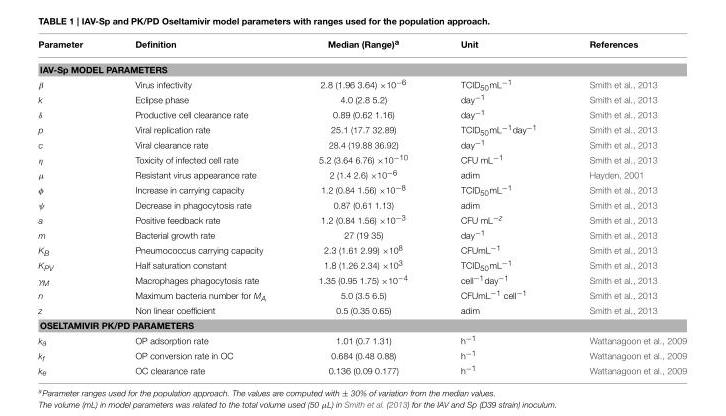table: (37, 37, 686, 376)
table column: (108, 37, 291, 376), (291, 37, 433, 376), (433, 37, 562, 376), (562, 37, 686, 376), (37, 37, 108, 376)
table column header: (37, 37, 686, 56)
table projected row header: (37, 56, 686, 76), (37, 317, 686, 331)
table row: (37, 56, 686, 76), (37, 37, 686, 56), (37, 181, 686, 198), (37, 76, 686, 92), (37, 121, 686, 137), (37, 241, 686, 257), (37, 287, 686, 303), (37, 331, 686, 347), (37, 347, 686, 363), (37, 106, 686, 121), (37, 151, 686, 166), (37, 166, 686, 181), (37, 211, 686, 226), (37, 226, 686, 241), (37, 257, 686, 272), (37, 272, 686, 287), (37, 92, 686, 106), (37, 137, 686, 151), (37, 303, 686, 317), (37, 317, 686, 331), (37, 198, 686, 211), (37, 363, 686, 376)
